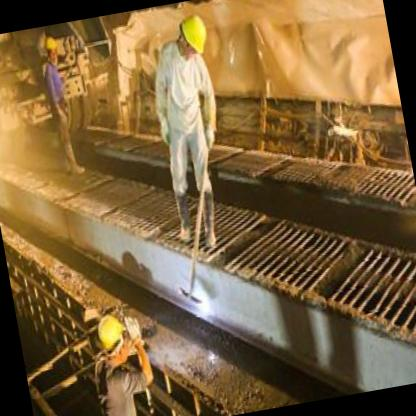helmet: (173, 8, 216, 70), (93, 310, 134, 372), (44, 32, 64, 67)
